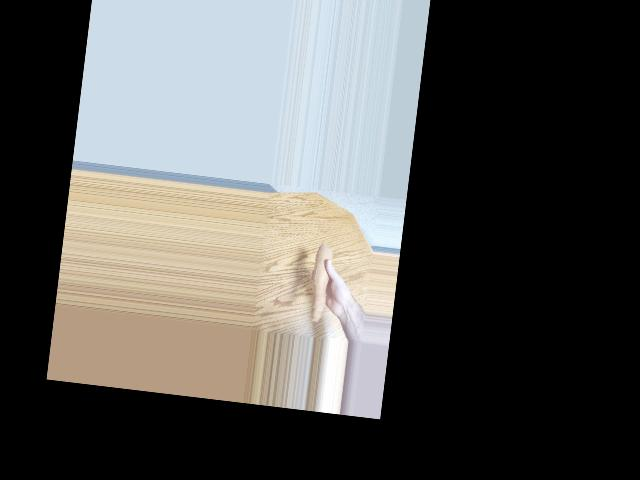sweet_potato: (305, 246, 336, 323)
